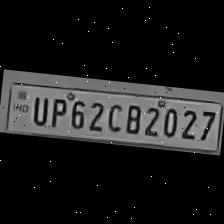0: (158, 102, 181, 138)
2: (140, 100, 162, 136), (176, 104, 198, 140), (85, 96, 106, 132)
6: (65, 94, 87, 130)
7: (196, 105, 217, 141)
B: (120, 99, 143, 135)
C: (103, 99, 124, 134)
P: (47, 93, 69, 128)
U: (28, 92, 50, 125)
